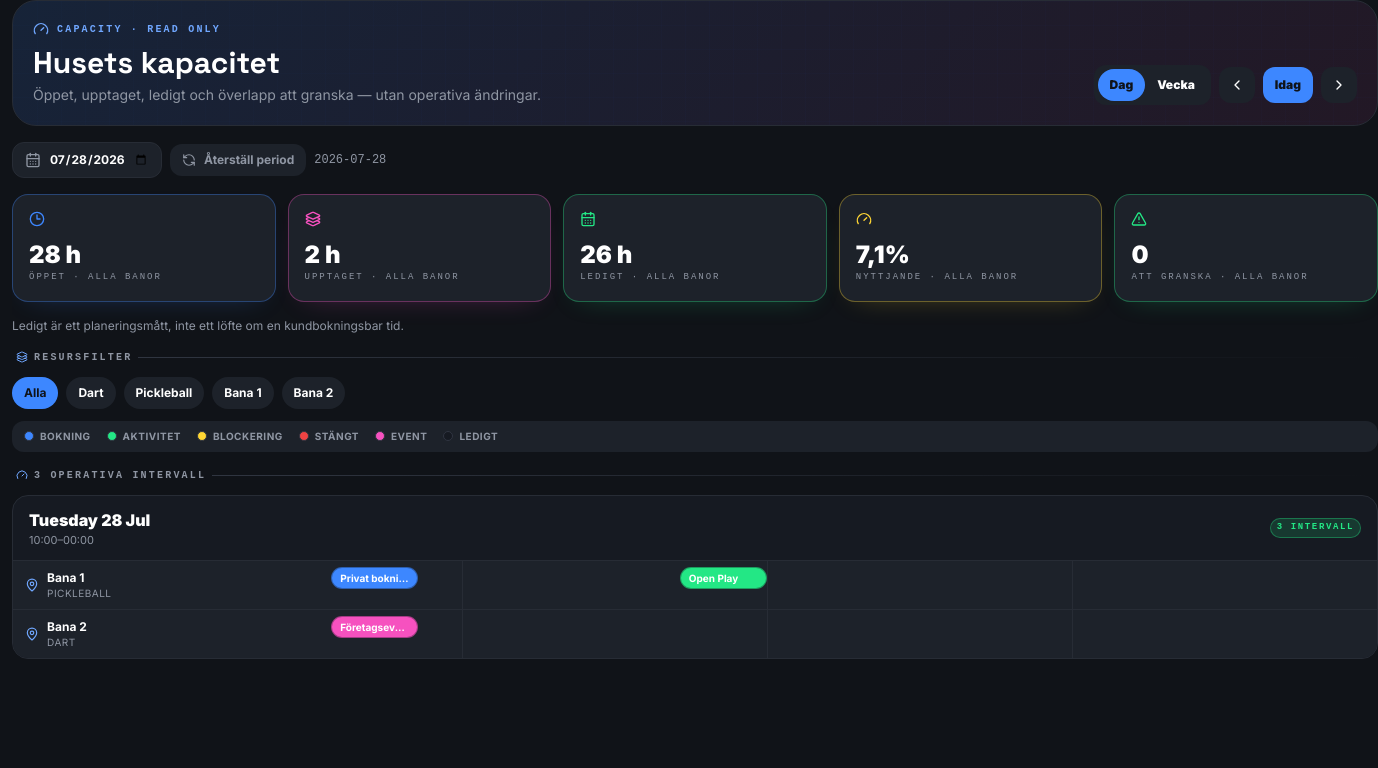
Test: Capacity V1 › filters the grid without changing canonical server totals
Step 1. Click the button "Bana 1" → {"x": 243, "y": 392}, box x1=212 y1=376 x2=274 y2=408
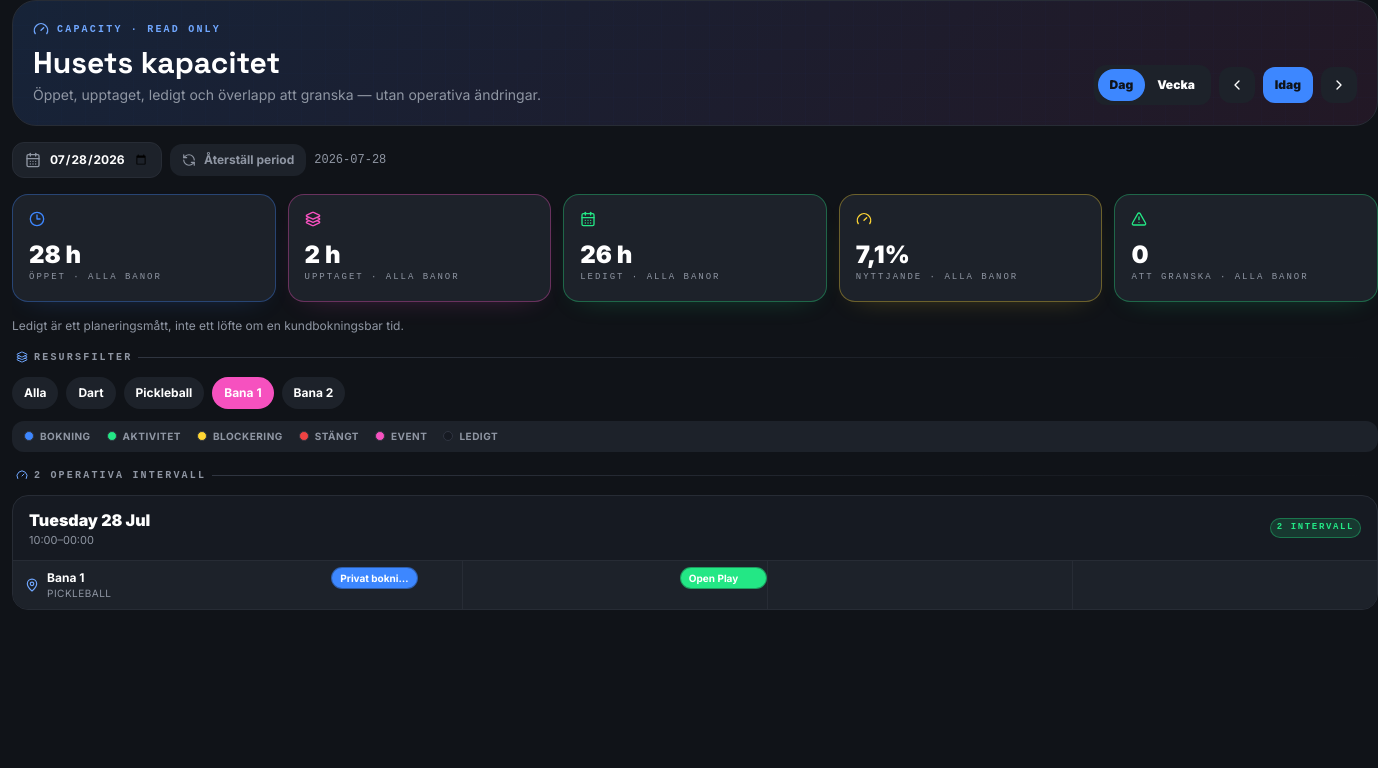
Expected: the text "Privat bokning" is shown, x1=340 y1=570 x2=409 y2=586
Result: the button "Företagsevent" is gone
